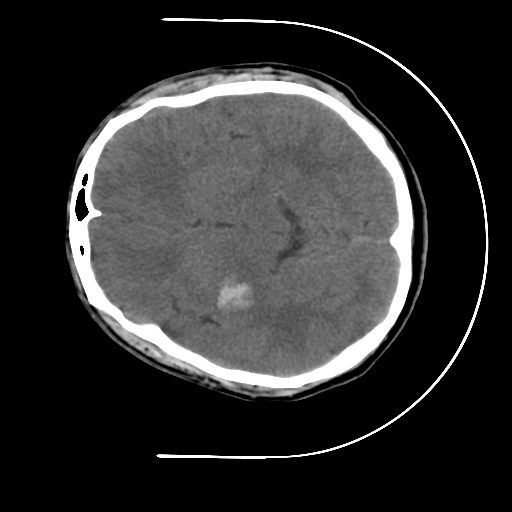a: (196, 258, 271, 329)
